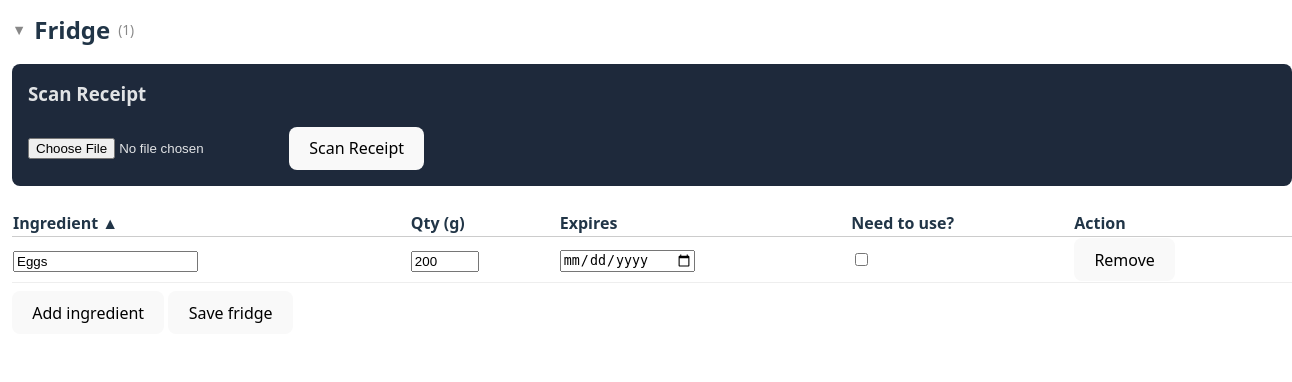
Test: Fridge › shows error notice on save failure
Check: the field showing "Eggs" is shown, box [13,251,198,272]
Click the button "Save fridge". click: (231, 313)
box: [168,291,293,334]
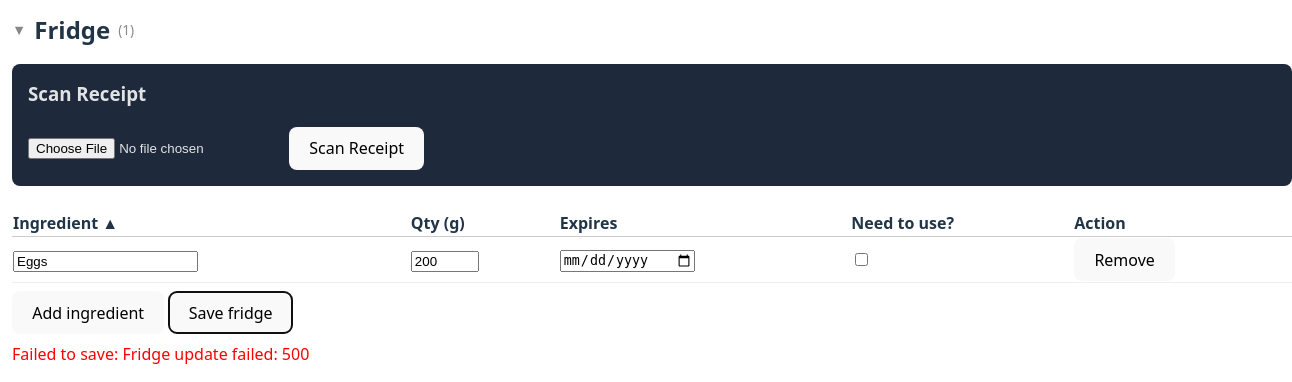
Check: the text "Failed to save: Fridge update failed: 500" is shown, box [12,343,309,365]
